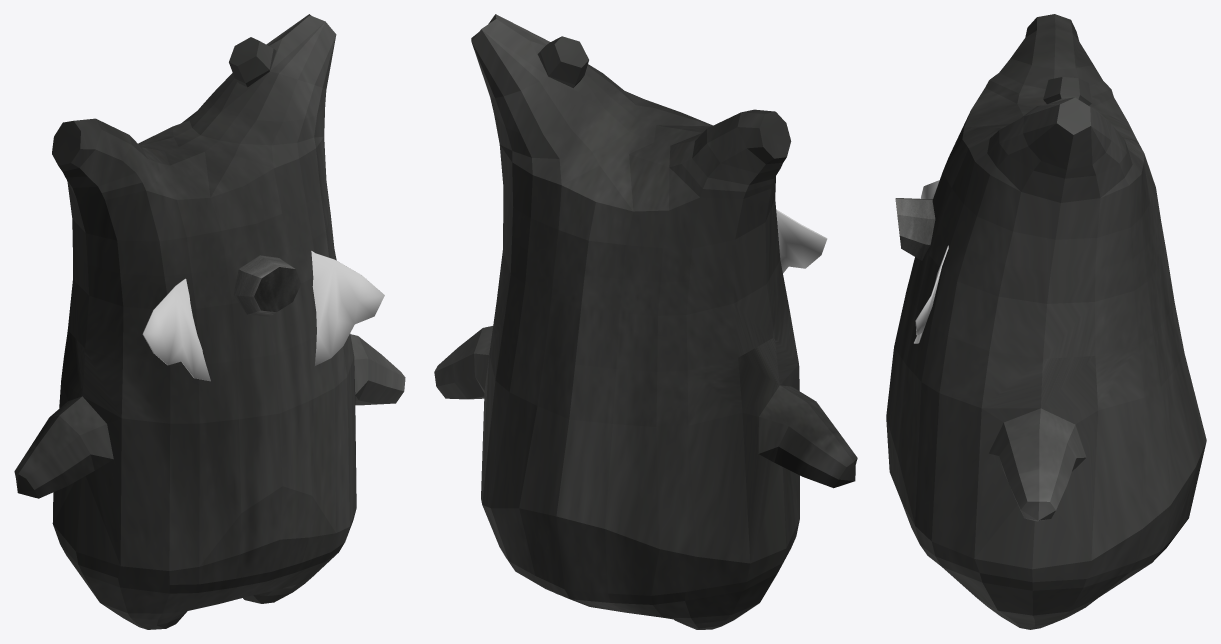
The model's file is frame_0076.obj.
3 renders of one model, left to right at view 1: azimuth 30°, elevation 25°; view 2: azimuth 150°, elevation 25°; view 3: azimuth 270°, elevation 25°, orthographic. The views are drawn at different scales.
Visible parts, largest first — view 1: korok, leaf, nose; view 2: korok, leaf; view 3: korok, nose, leaf.
Boxes of the visible parts, <box> form: korok: <box>14,14,405,629</box>; leaf: <box>142,251,384,381</box>; nose: <box>233,255,301,316</box>; korok: <box>434,14,857,629</box>; leaf: <box>776,209,827,273</box>; korok: <box>886,14,1206,629</box>; nose: <box>895,198,935,260</box>; leaf: <box>914,180,948,343</box>.
Size of the model in its own units: 1.67 by 2.26 by 1.17.
